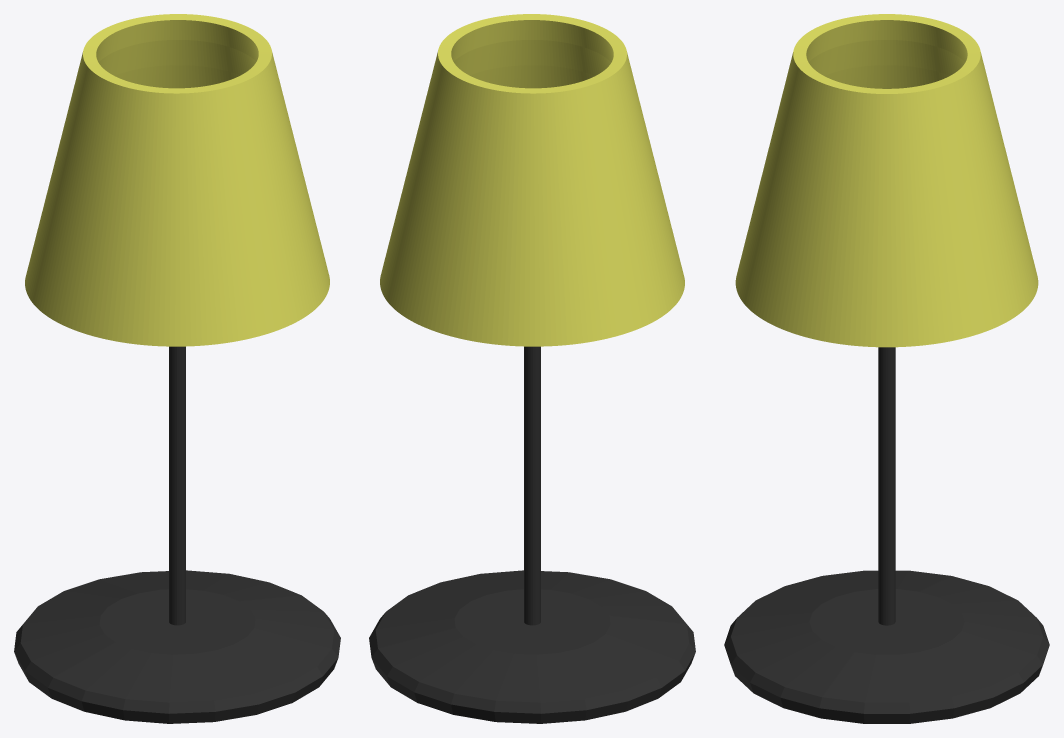
File: DeskLamp.glb
The picture shows the model from 3 angles, left to right: view 1: azimuth 30°, elevation 25°; view 2: azimuth 150°, elevation 25°; view 3: azimuth 270°, elevation 25°; orthographic projection.
Visible parts, largest first — view 1: Circle, Circle.001; view 2: Circle, Circle.001; view 3: Circle, Circle.001.
Part boxes in pixels (x1=…): Circle: x1=25, y1=14, x2=329, y2=346; Circle.001: x1=14, y1=346, x2=340, y2=723; Circle: x1=380, y1=14, x2=684, y2=346; Circle.001: x1=369, y1=346, x2=695, y2=723; Circle: x1=735, y1=14, x2=1038, y2=347; Circle.001: x1=724, y1=347, x2=1049, y2=723.
Bounding box in the file's own units: 0.2556 × 0.5221 × 0.2556.
